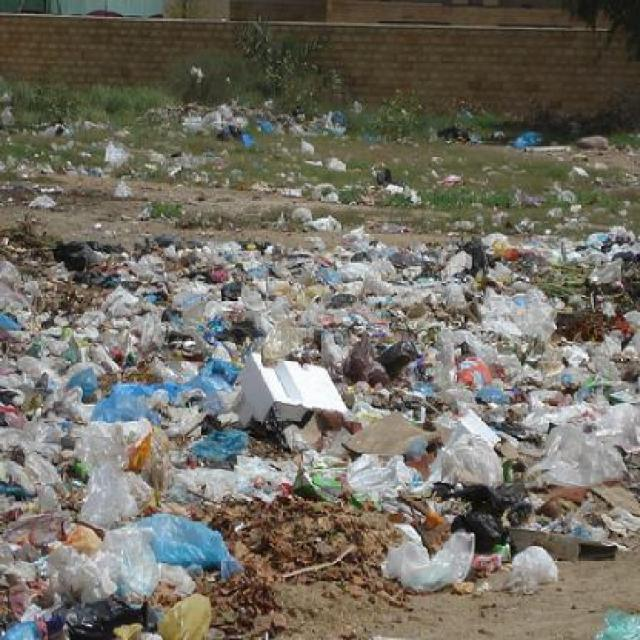garbage: (209, 243, 639, 480), (3, 231, 206, 636), (217, 488, 564, 575), (186, 108, 310, 144), (149, 151, 248, 192), (365, 162, 427, 203), (288, 202, 348, 236), (443, 122, 498, 149), (282, 175, 345, 198), (322, 98, 356, 140), (105, 138, 128, 200), (525, 186, 581, 210), (28, 190, 72, 219), (31, 117, 88, 136), (511, 126, 557, 148), (0, 79, 14, 132)
